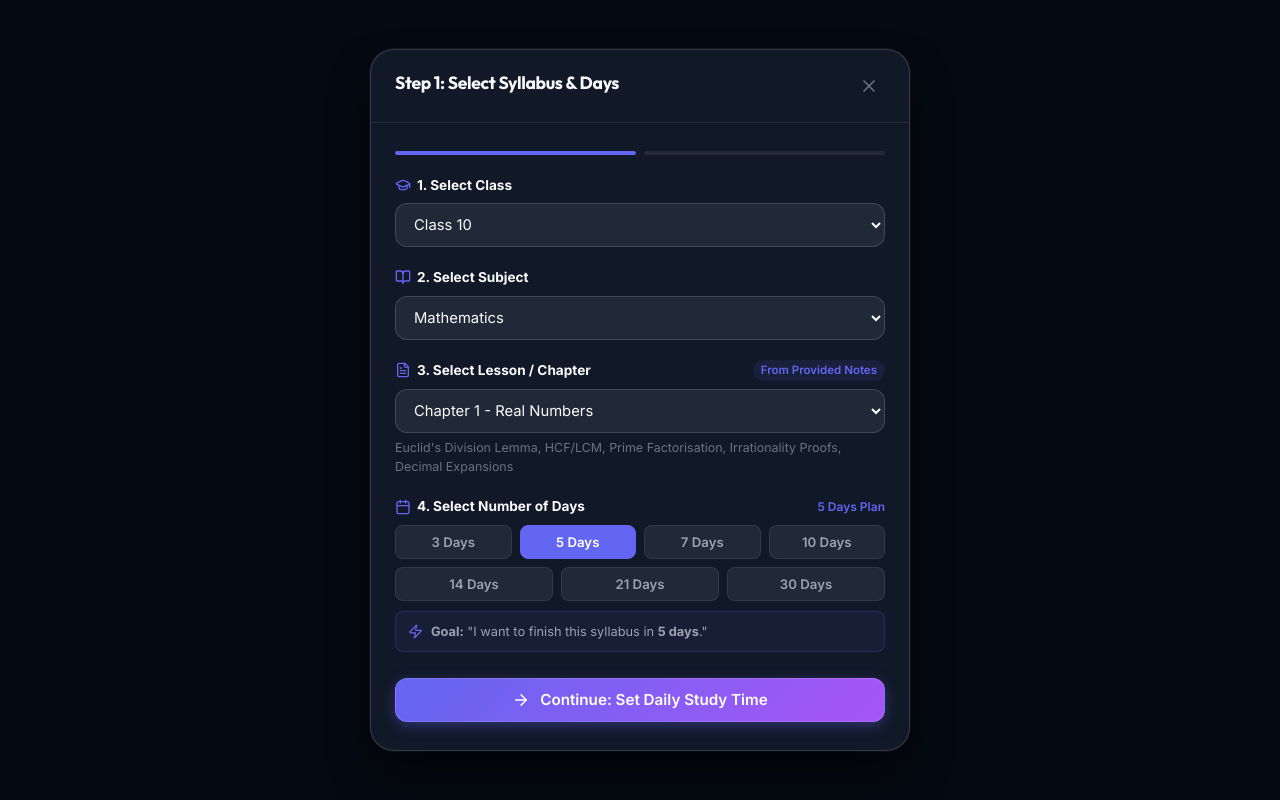
Test: Study Plans Tests (Item 12) › 13. CreatePlanModal renders Caveman Step 1 (Class, Subject, Chapter, Days) and transitions to Step 2
Check: the text "1. Select Class" is shown, box [395,177,512,193]
Check: the text "2. Select Subject" is shown, box [395,269,529,285]
Note: Advance to Step 2
Click the button "Continue: Set Daily Study Time" at (640, 700), box [395,678,885,722]
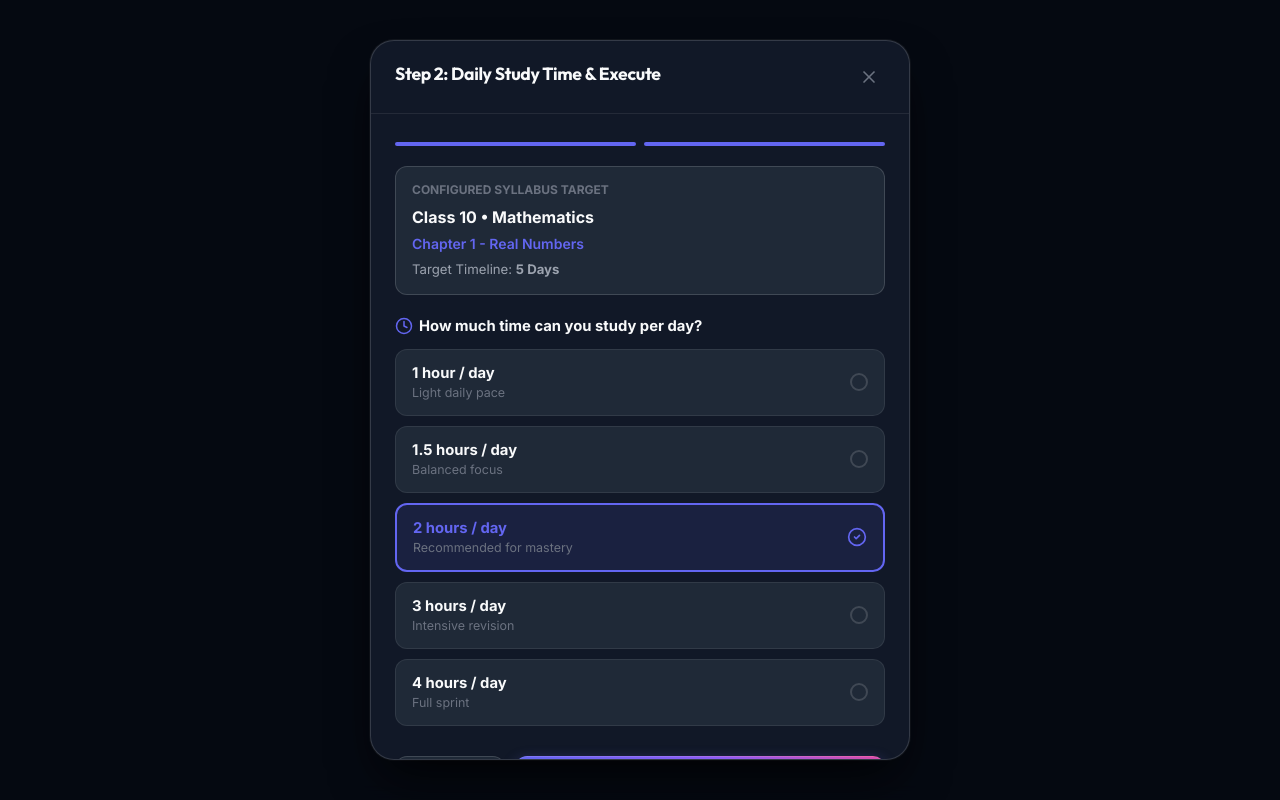
Check: the text "How much time can you study per day?" is shown, box [395,317,702,335]
Check: the text "2 hours / day" is shown, box [413,519,507,537]
